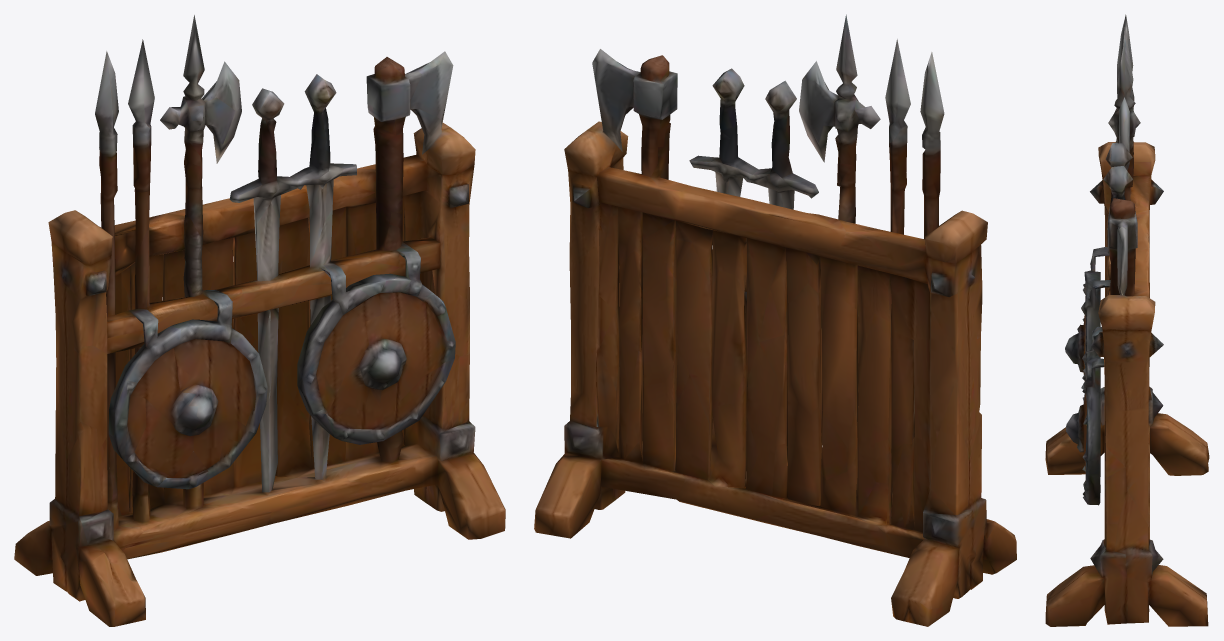
File: weapon-rack.glb
3 views of the same model, side by side, from view 1: azimuth 30°, elevation 25°; view 2: azimuth 150°, elevation 25°; view 3: azimuth 270°, elevation 25° (orthographic). The views are drawn at different scales.
Visible parts, largest first — view 1: weapon-rack; view 2: weapon-rack; view 3: weapon-rack.
Boxes of the visible parts, bbox=[...] form: weapon-rack: bbox=[14, 15, 505, 626]; weapon-rack: bbox=[534, 14, 1016, 626]; weapon-rack: bbox=[1045, 14, 1209, 626].
Bounding box in the file's own units: 1.98 × 2.6 × 0.8085.
1 material, 1 textured.
